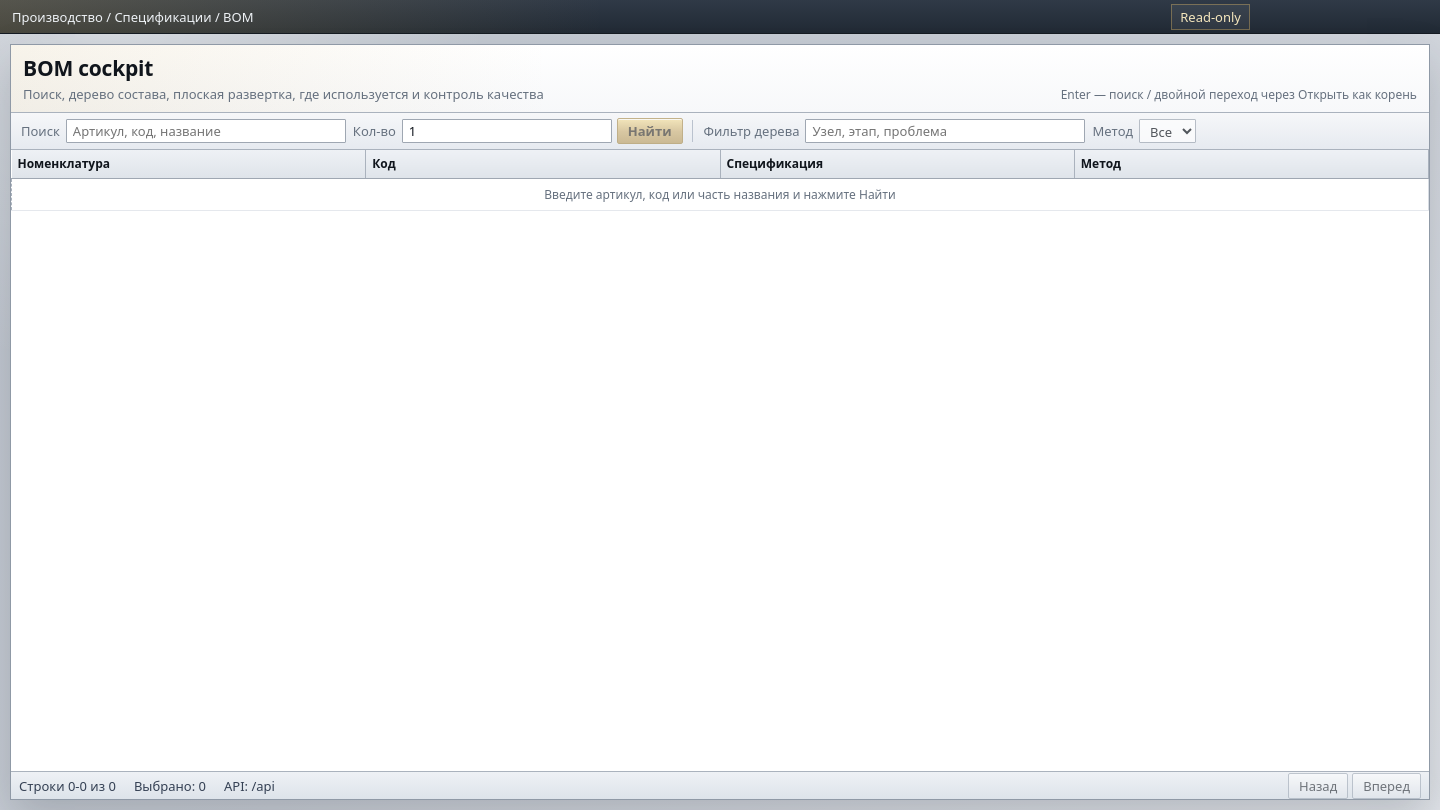
SpecificationPage characterization › auto-loads a single result through all four BOM endpoints in parallel
Type "НАС-01" into the field with placeholder "Артикул, код, название" at (206, 131), box [66,119,346,143]
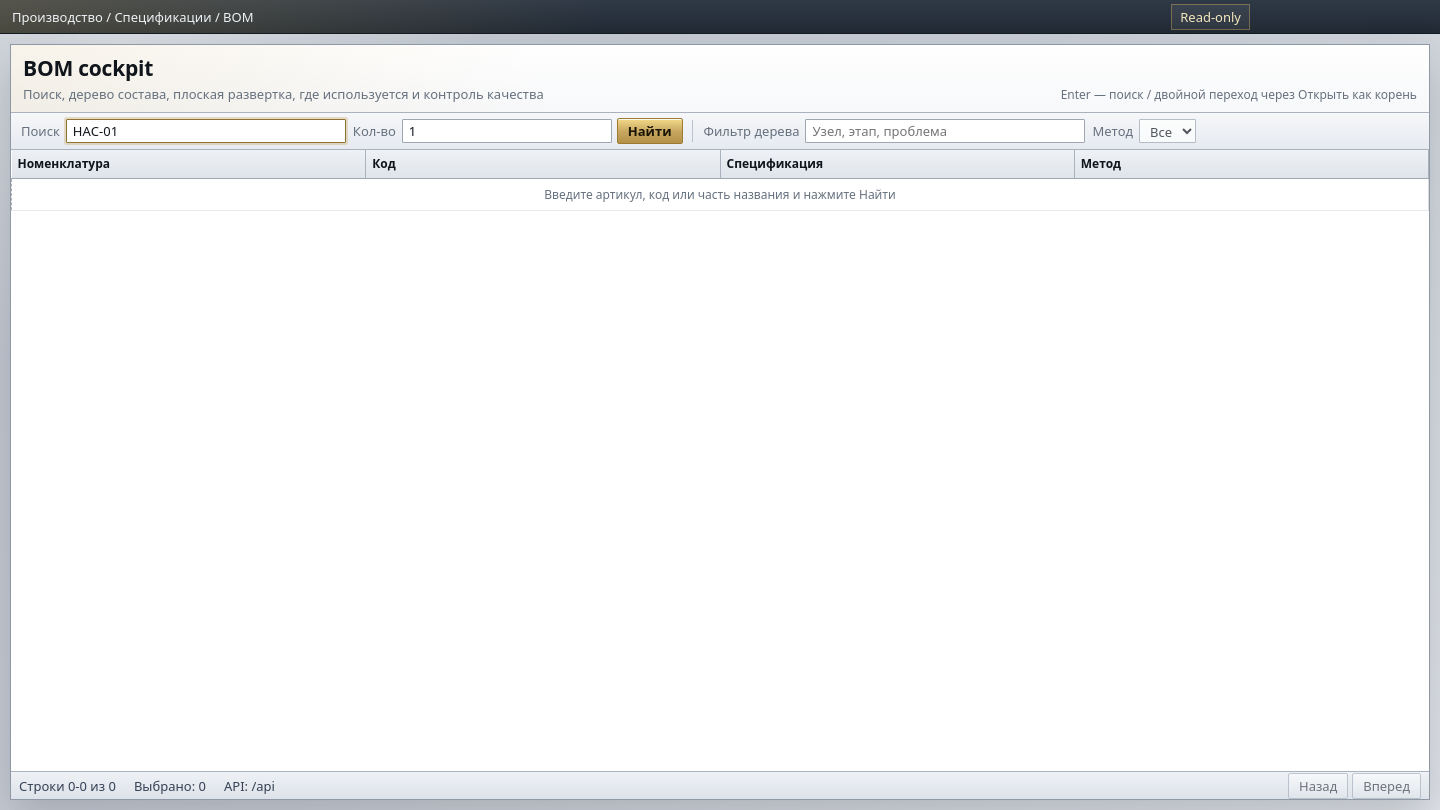
Click the button "Найти" at (650, 131), box [617,118,682,144]
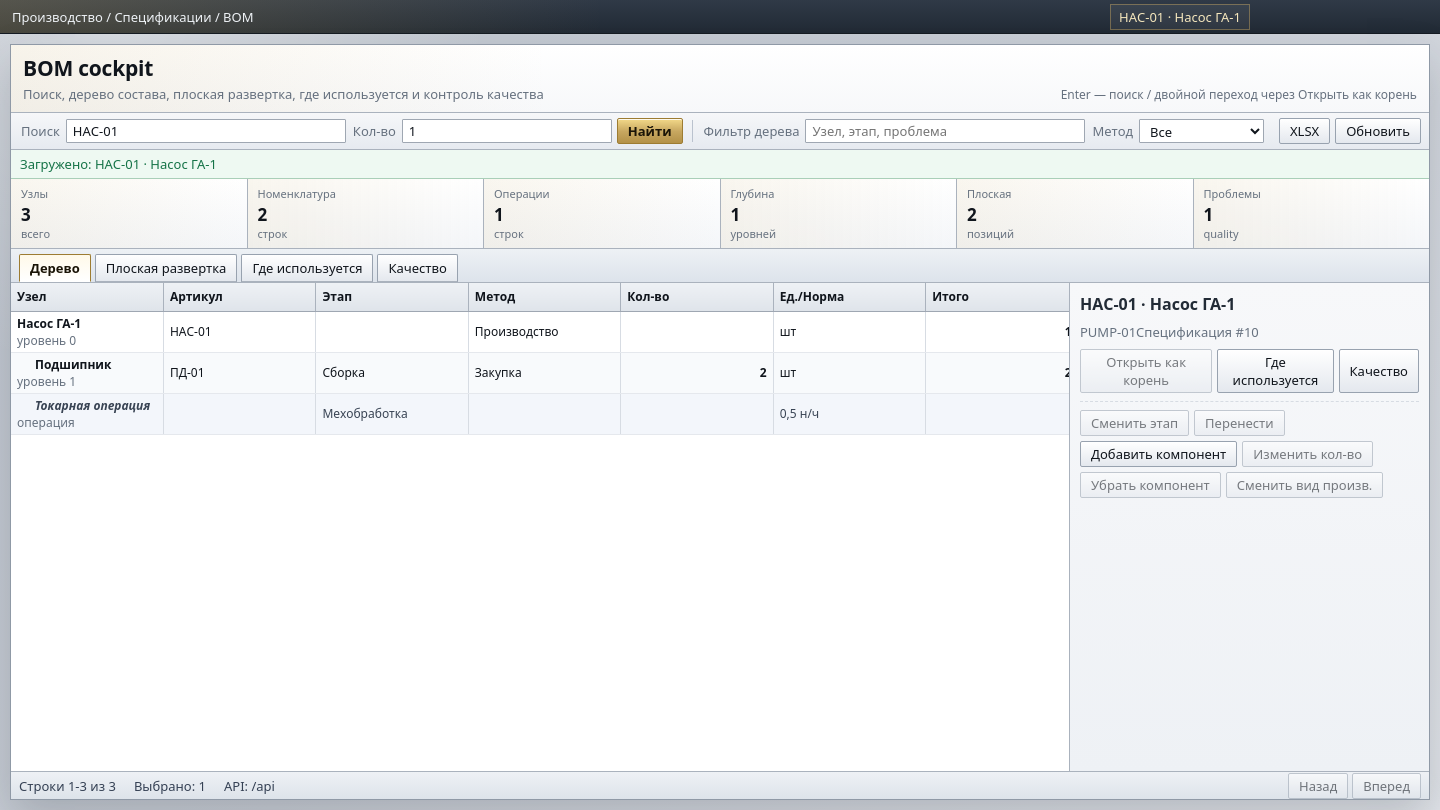
expect the text "Загружено: НАС-01 · Насос ГА-1" is shown: met, box [11,150,1429,179]
